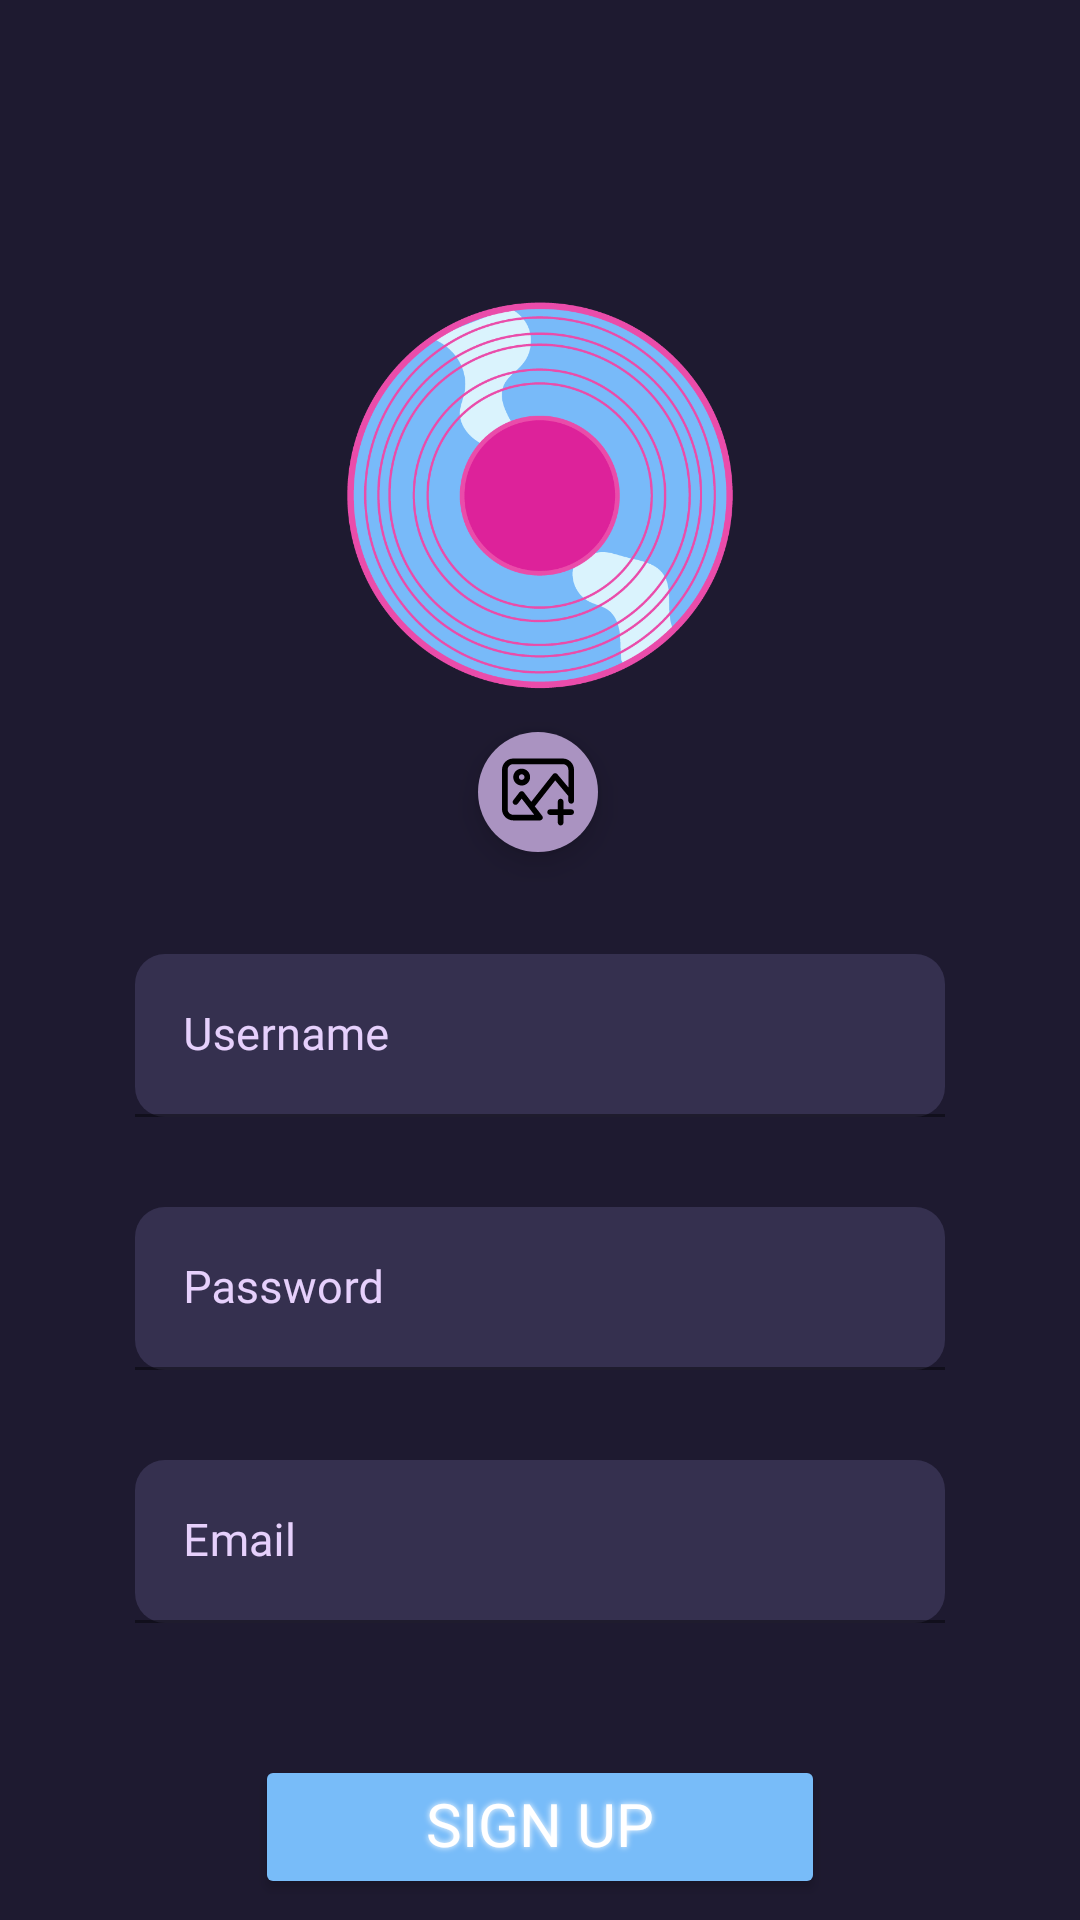

Where to tap for icons on this 1080 × 1920 app screen, as point (x, y):
add: point (538, 792)
